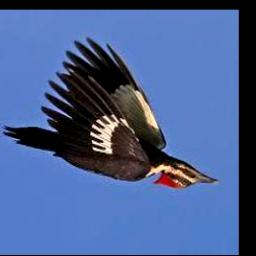Woodpecker: (2, 38, 219, 190)
